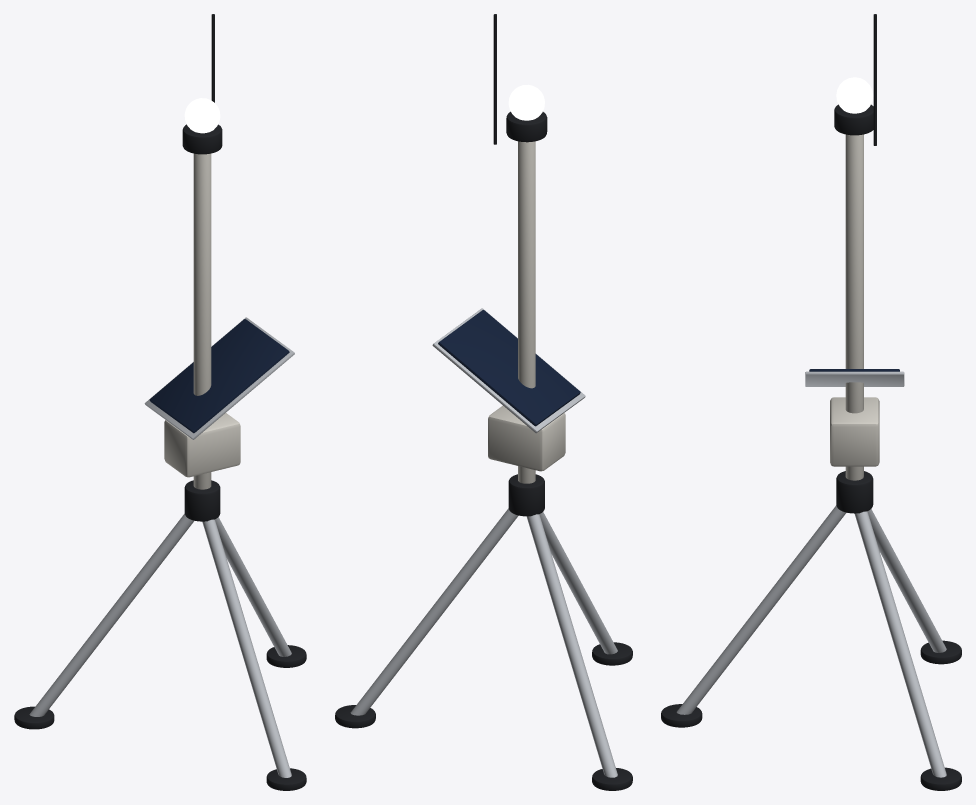
The model's file is beacon.glb.
3 views of the same model, side by side, from view 1: azimuth 30°, elevation 25°; view 2: azimuth 150°, elevation 25°; view 3: azimuth 270°, elevation 25° (orthographic). The views are drawn at different scales.
Parts seen in each view (by area): view 1: beacon_mesh, beacon_light; view 2: beacon_mesh, beacon_light; view 3: beacon_mesh, beacon_light.
Part boxes in pixels (x1,y1,x2,y2): beacon_mesh: (14, 14, 306, 790); beacon_light: (184, 98, 220, 133); beacon_mesh: (335, 14, 632, 790); beacon_light: (508, 84, 544, 120); beacon_mesh: (661, 14, 961, 790); beacon_light: (836, 77, 873, 113).
Size of the model in its own units: 0.8275 by 1.92 by 0.73.
